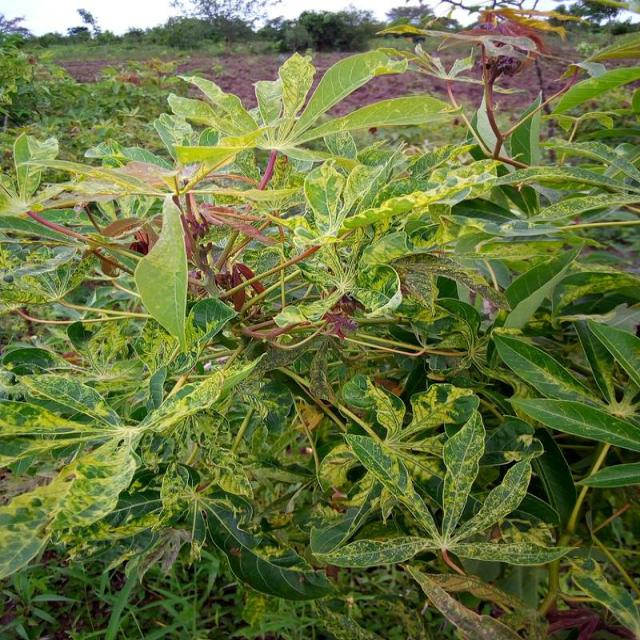cassava leaf: (0, 28, 638, 630), (133, 192, 189, 353)
